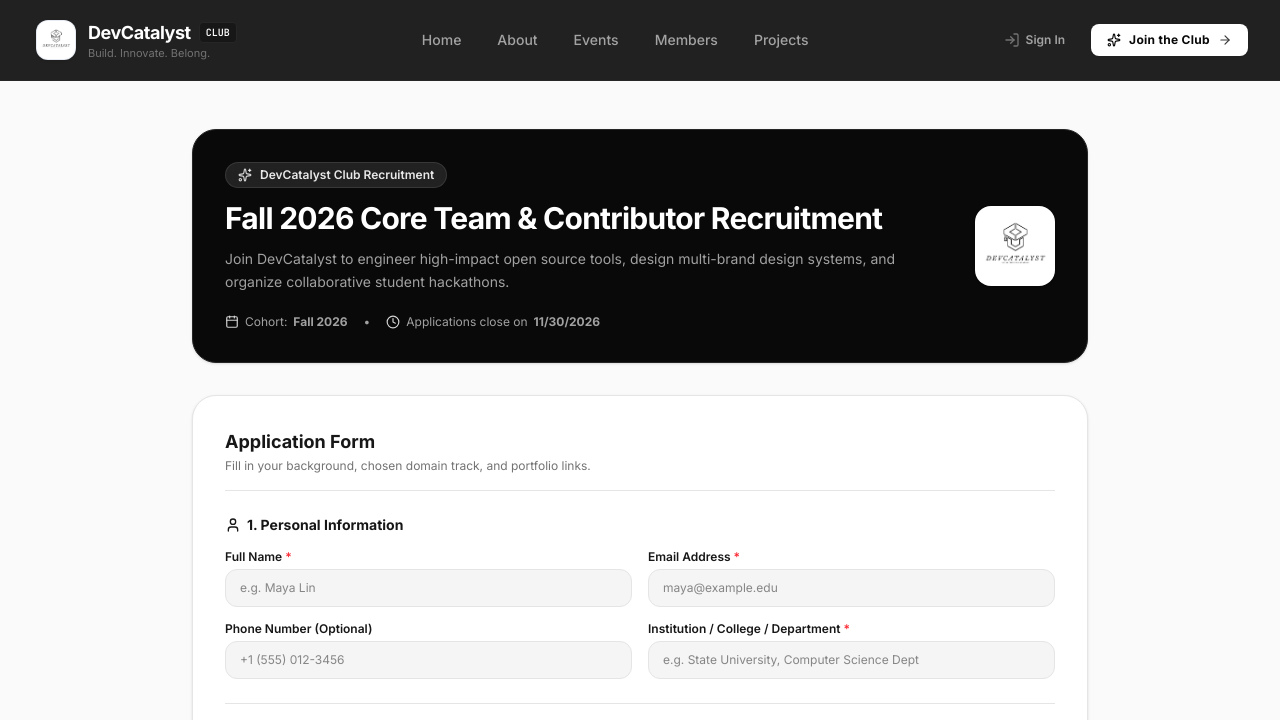
it: Public Homepage & Club Discovery Experience › allows anonymous visitor to submit an application on /apply and receive a reference code
This screenshot has width=1280, height=720.
// Fill application form
Type "Jane Anonymous Applicant" into the field labelled "Full Name *".
click(428, 588); type("Jane Anonymous Applicant")  # box [225,568,632,606]
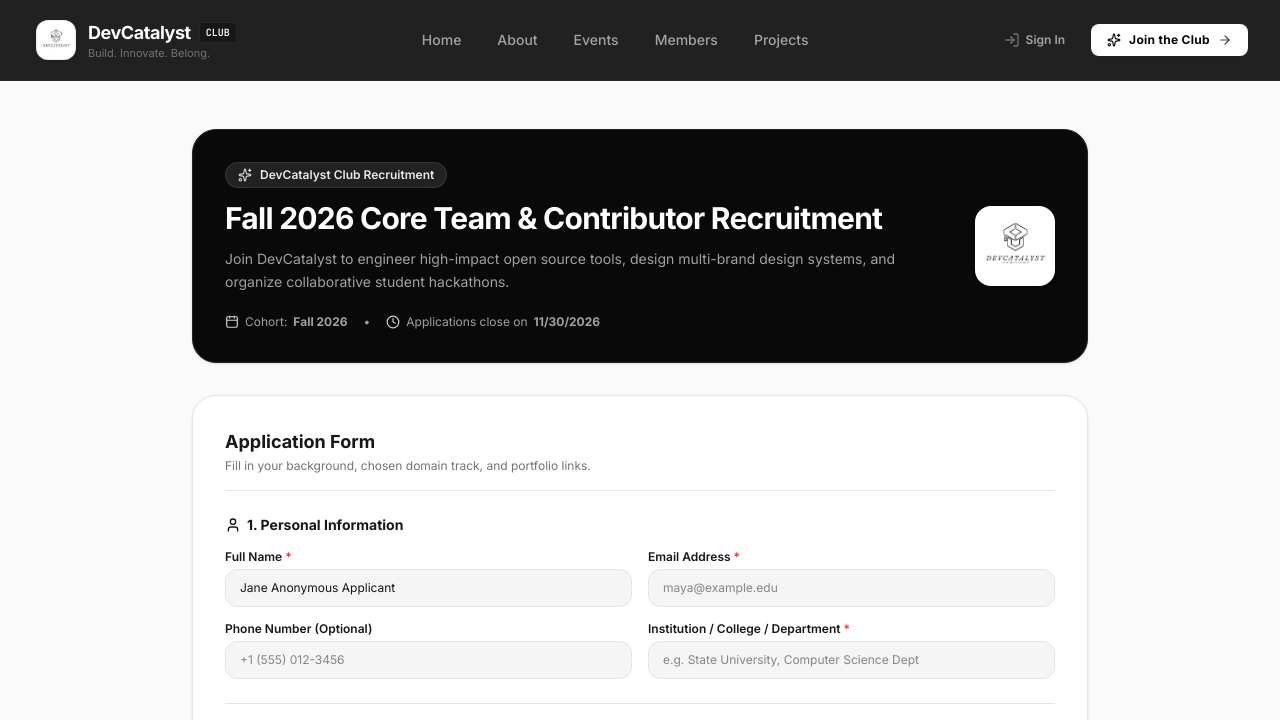
Type "jane.anonymous@example.edu" into the field labelled "Email Address *".
click(852, 588); type("jane.anonymous@example.edu")  # box [648,568,1055,606]
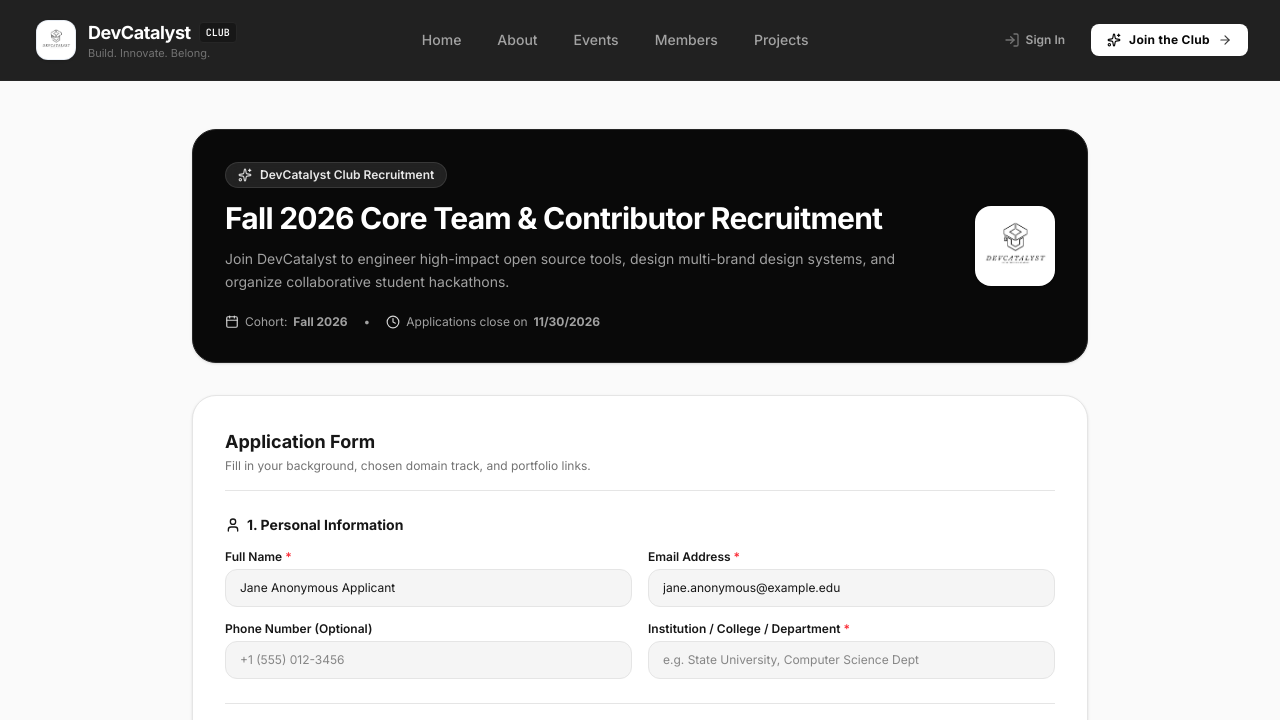
Type "University of Technology" into the field labelled "Institution / College / Department *".
click(852, 660); type("University of Technology")  # box [648,640,1055,678]
(page scrolled)
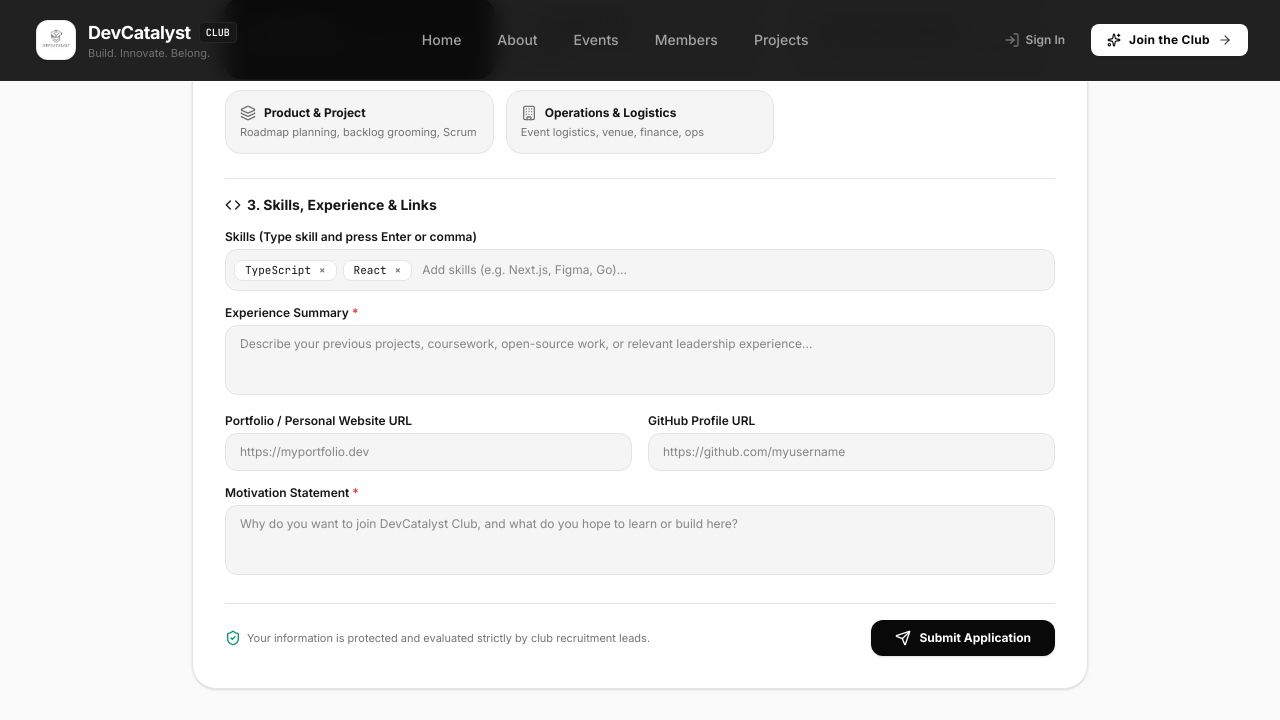
Replace the text in the text box labelled "Experience Summary *" with "3 years of web development in TypeScript and React." at [640, 360], box [225,326,1055,396]
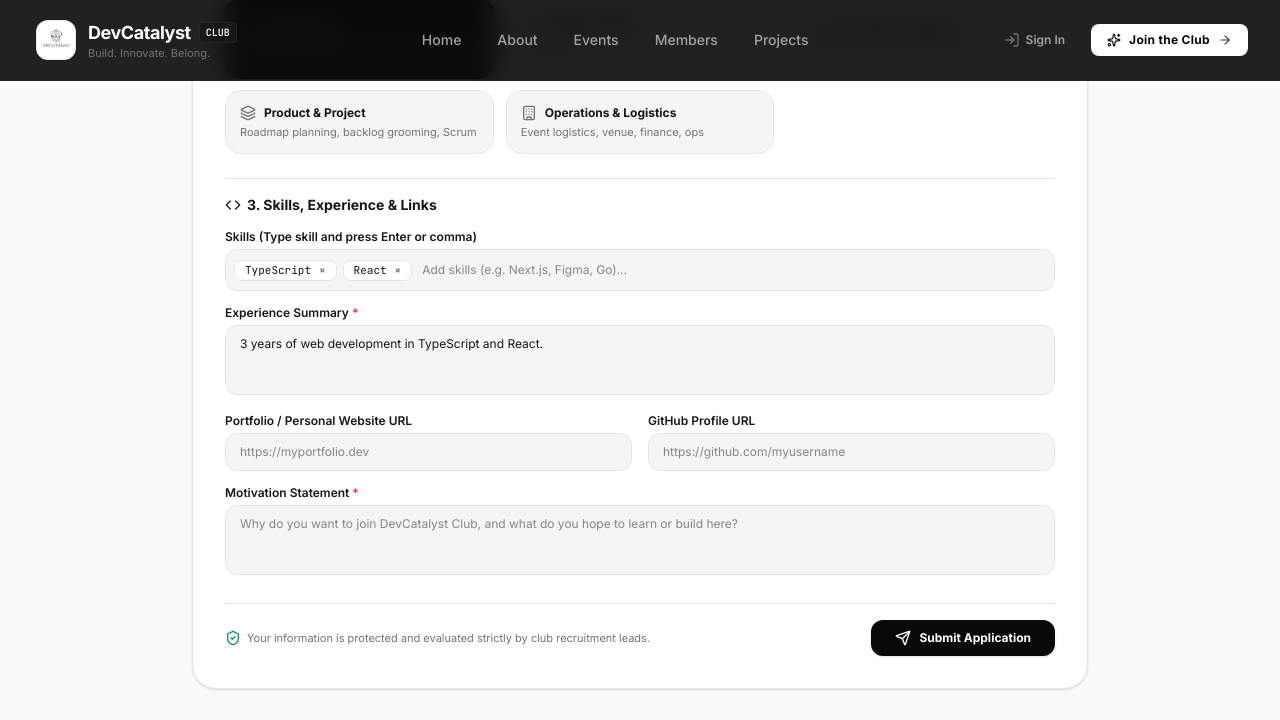
Replace the text in the text box labelled "Motivation Statement *" with "I want to build open source technology with DevCatalyst Club." at [640, 540], box [225,506,1055,576]
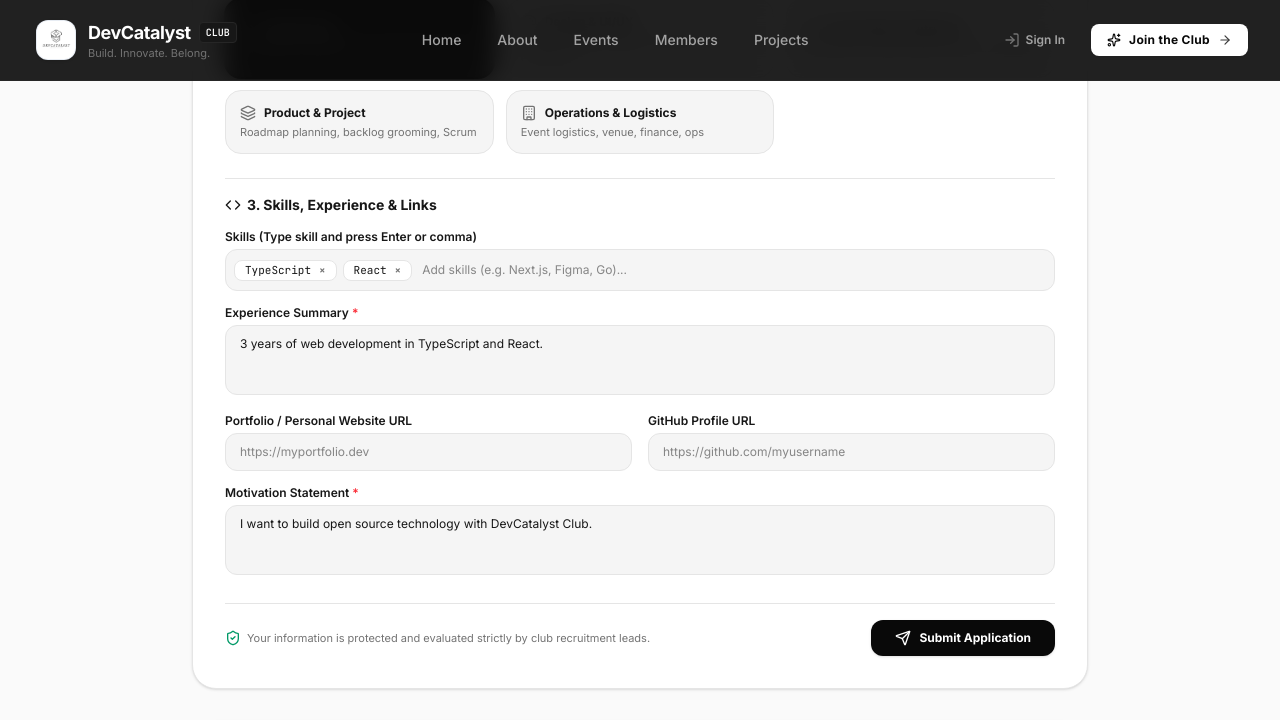
// Submit form
Click the button "Submit Application".
click(963, 638)  # box [872,620,1055,656]
(page scrolled)
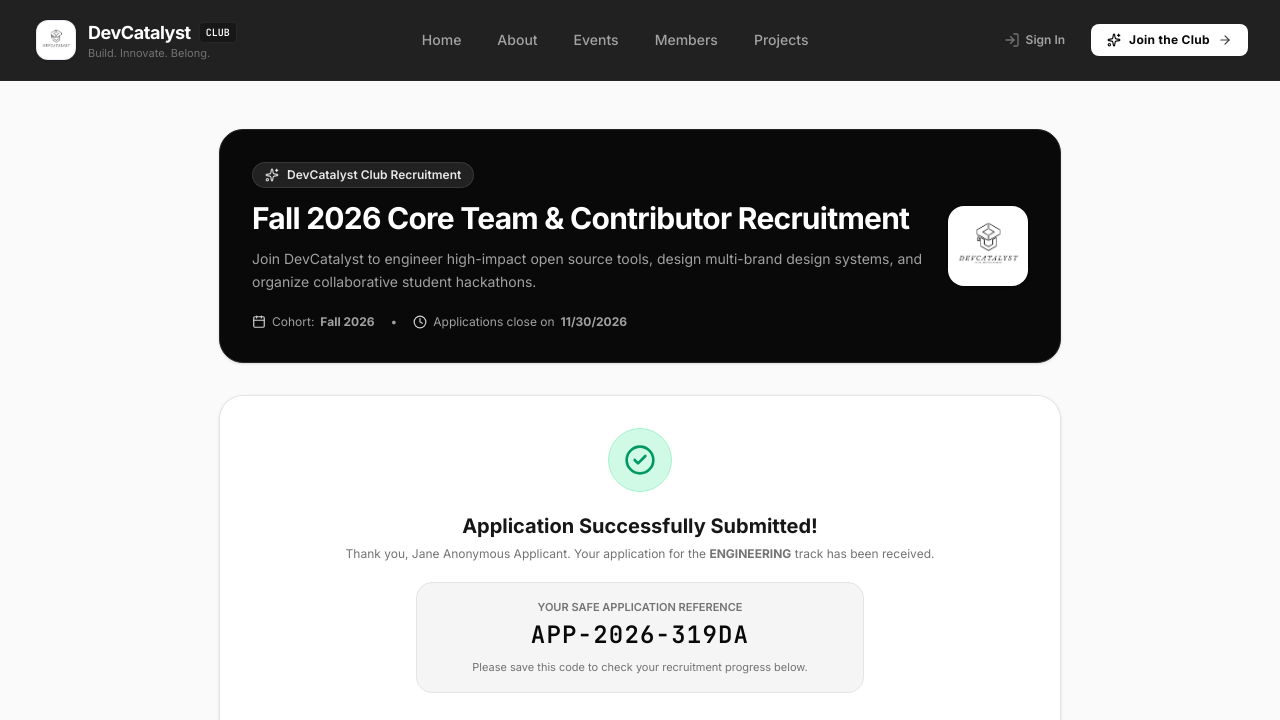
Now the heading "Application Successfully Submitted!" is shown, box [462,514,818,538]
Now the text "Your Safe Application Reference" is shown, box [538,600,742,614]
Now the text "Jane Anonymous Applicant" is shown, box [412,546,567,560]
